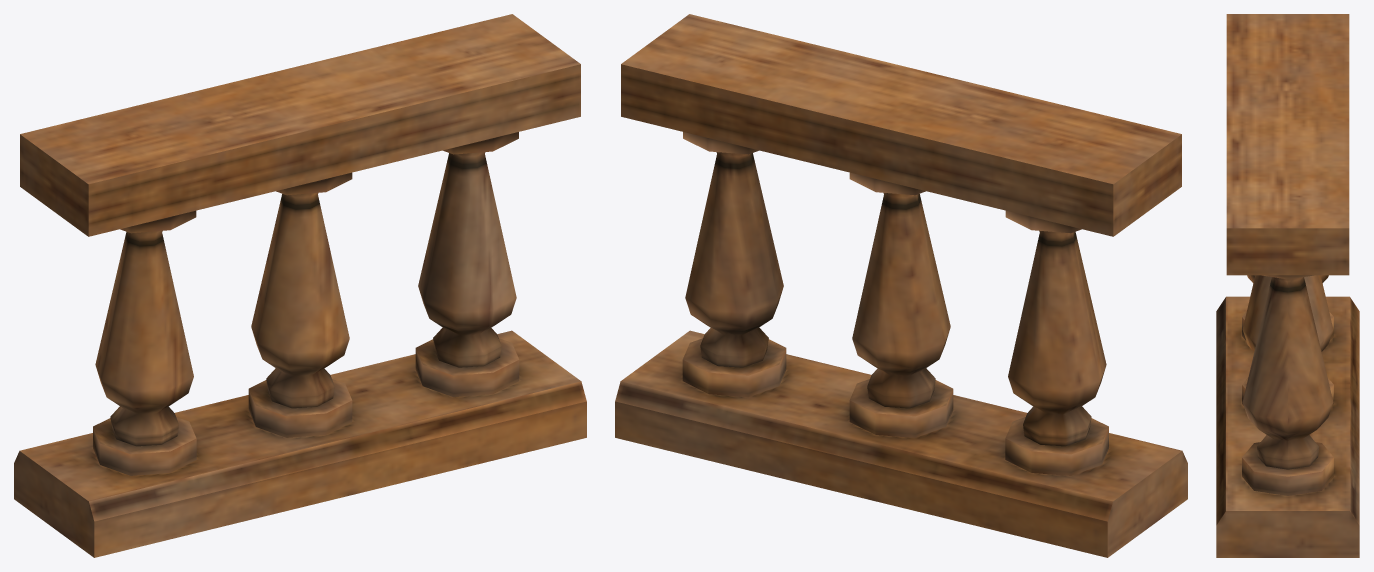
File: EP1_WoodHandRail.fbx
3 views of the same model, side by side, from view 1: azimuth 30°, elevation 25°; view 2: azimuth 150°, elevation 25°; view 3: azimuth 270°, elevation 25° (orthographic). The views are drawn at different scales.
Visible parts, largest first — view 1: EP1_WoodHandRail; view 2: EP1_WoodHandRail; view 3: EP1_WoodHandRail.
Boxes of the visible parts, bbox=[...] form: EP1_WoodHandRail: bbox=[14, 14, 586, 557]; EP1_WoodHandRail: bbox=[615, 14, 1187, 557]; EP1_WoodHandRail: bbox=[1216, 14, 1359, 557].
Size of the model in its own units: 1 by 0.7165 by 0.2819.
1 material, 1 textured.
